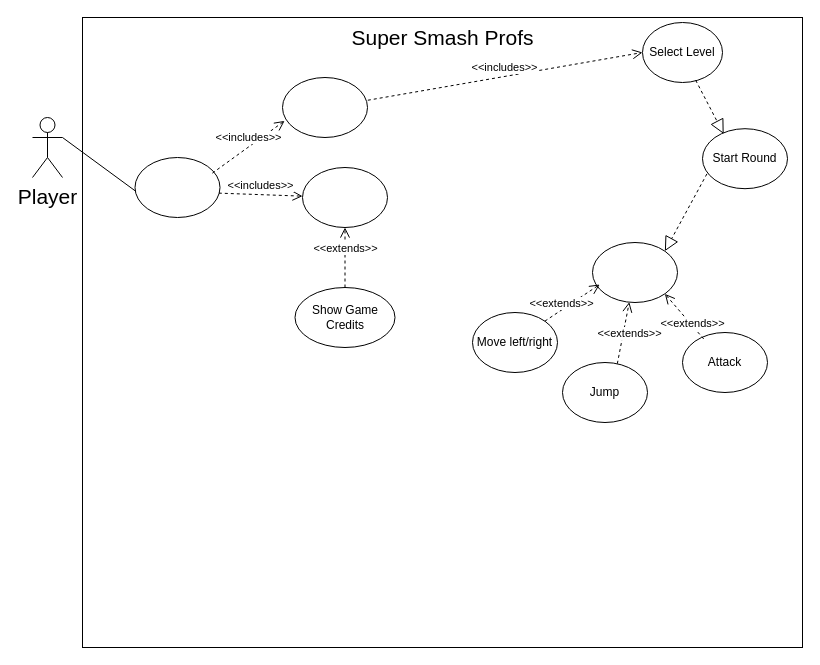
This 820x665 diagram has some shape labels left out. Each missing label, with the centre of its shape:
"Enter Main Menu" goes at point 177,187.
"Enter Settings" goes at point 345,197.
"Start Game" goes at point 325,107.
"Steer Character" goes at point 635,272.
